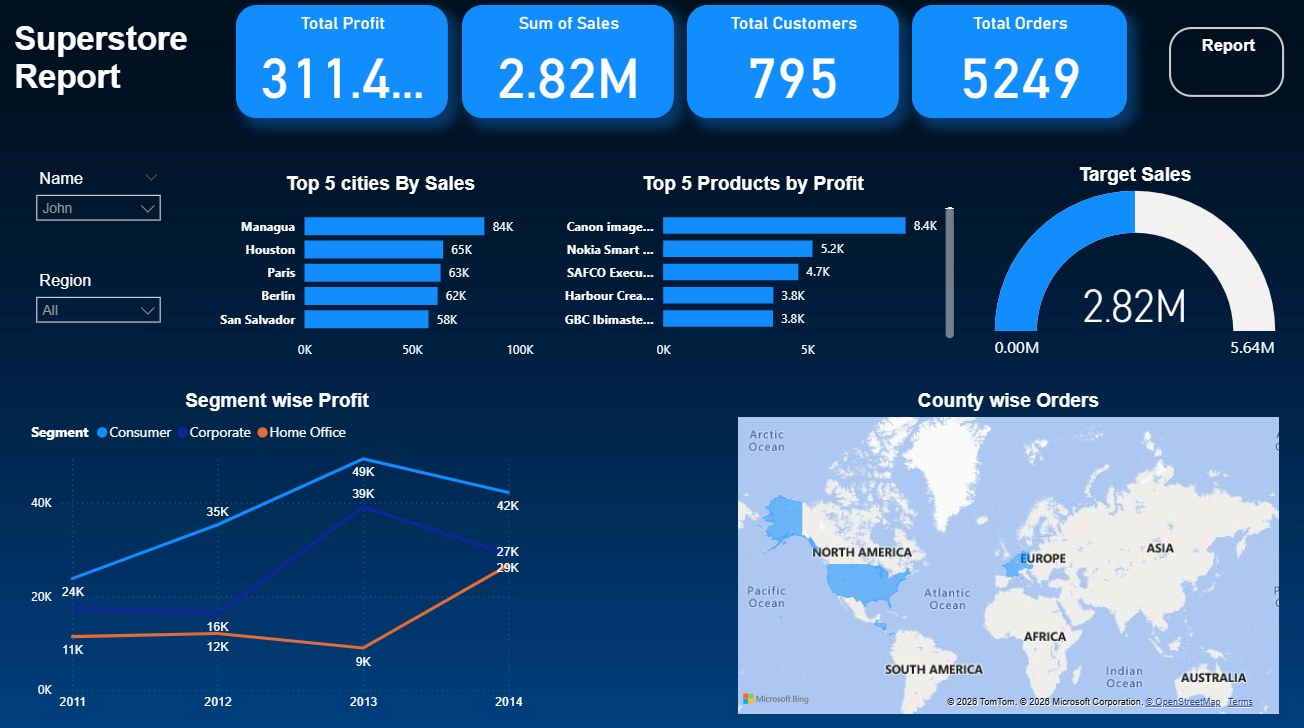

Layout of this report page (visuals, bound fields, positions):
{"tool":"powerbi","page":{"name":"Page 1","canvas":[1280,720],"ordinal":0},"visuals":[{"type":"barChart","title":"Top 5 cities By Sales","fields":{"Category":["Orders.City"],"Y":["Sum(Orders.Sales)"]},"box":[213,170.2,323.9,189.7],"z":0},{"type":"card","title":"Total Customers","fields":{"Values":["Count(Orders.Customer Name)"]},"box":[673.1,6.8,206.2,109.9],"z":1000},{"type":"card","title":"Total Orders","fields":{"Values":["Count(Orders.Order ID)"]},"box":[891.9,6.8,209.1,109.9],"z":2000},{"type":"card","title":"Sum of Sales","fields":{"Values":["Sum(Orders.Sales)"]},"box":[454.2,6.8,206.2,109.9],"z":3000},{"type":"card","title":"Total Profit","fields":{"Values":["Sum(Orders.Profit)"]},"box":[234.4,6.8,206.2,109.9],"z":4000},{"type":"gauge","title":"Target Sales","fields":{"Y":["Sum(Orders.Sales)"]},"box":[937.6,161.5,342.4,198.4],"z":5000},{"type":"barChart","title":"Top 5 Products by Profit","fields":{"Category":["Orders.Product Name"],"Y":["Sum(Orders.Profit)"]},"box":[536.9,170.2,400.7,189.7],"z":6000},{"type":"lineChart","title":"Segment wise Profit","fields":{"Category":["Orders.Order Date.Variation.Date Hierarchy.Year"],"Y":["Sum(Orders.Profit)"],"Series":["Orders.Segment"]},"box":[30.2,381.3,488.3,320],"z":7000},{"type":"filledMap","title":"County wise Orders","fields":{"Category":["Orders.Country"]},"box":[717.8,381.3,535.9,320],"z":8000},{"type":"slicer","fields":{"Values":["Employees.Name"]},"box":[30.2,161.5,141,69.1],"z":9000},{"type":"slicer","fields":{"Values":["Employees.Region"]},"box":[30.2,260.7,141,69.1],"z":10000},{"type":"shape","title":"Report","box":[1141.9,28.2,111.9,68.1],"z":11000},{"type":"textbox","box":[13.6,0,230.5,135.2],"z":12000}]}

Visuals, with their boxes in screenshot pixels (x1, y1, x2, y2), scaled from the page's 1280x720 canvas onto the 1304x728 screenshot:
"Top 5 cities By Sales" barChart: pyautogui.locateOnScreen(217, 172, 547, 364)
"Total Customers" card: pyautogui.locateOnScreen(686, 7, 896, 118)
"Total Orders" card: pyautogui.locateOnScreen(909, 7, 1122, 118)
"Sum of Sales" card: pyautogui.locateOnScreen(463, 7, 673, 118)
"Total Profit" card: pyautogui.locateOnScreen(239, 7, 449, 118)
"Target Sales" gauge: pyautogui.locateOnScreen(955, 163, 1303, 364)
"Top 5 Products by Profit" barChart: pyautogui.locateOnScreen(547, 172, 955, 364)
"Segment wise Profit" lineChart: pyautogui.locateOnScreen(31, 386, 528, 709)
"County wise Orders" filledMap: pyautogui.locateOnScreen(731, 386, 1277, 709)
slicer - Employees.Name: pyautogui.locateOnScreen(31, 163, 174, 233)
slicer - Employees.Region: pyautogui.locateOnScreen(31, 264, 174, 333)
"Report" shape: pyautogui.locateOnScreen(1163, 29, 1277, 97)
textbox: pyautogui.locateOnScreen(14, 0, 249, 137)
